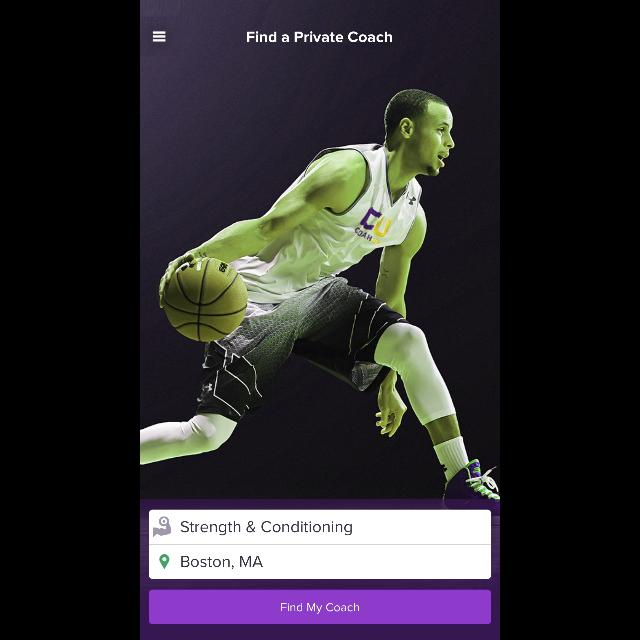icon: (160, 554, 170, 570), (152, 32, 166, 42)
image: (140, 1, 500, 500), (153, 517, 171, 537)
text: (180, 520, 352, 536), (246, 32, 392, 42), (181, 556, 263, 568)
textbutton: (149, 590, 491, 624)
